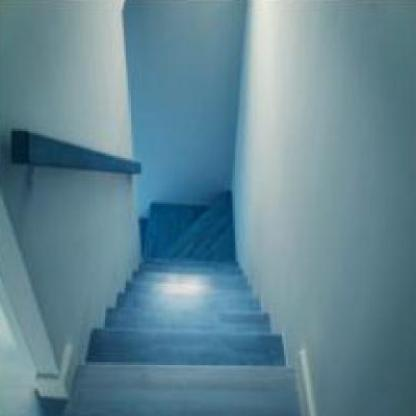stair_down: (82, 257, 288, 383)
